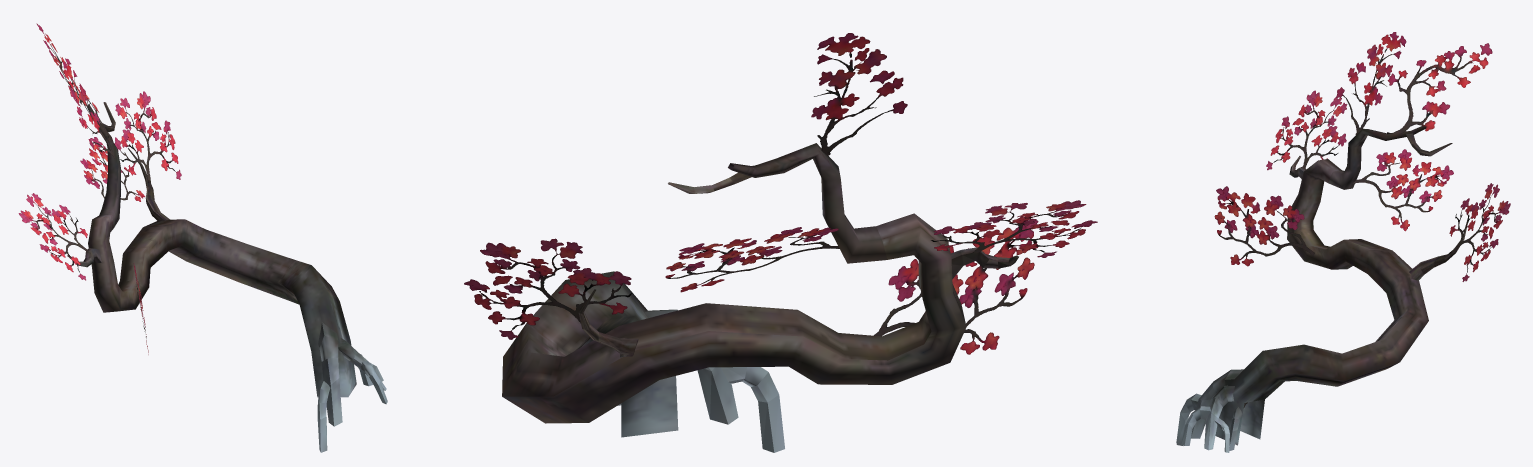
Rendered from cj_xinshou_shu01_55_31_0692out.fbx.
The picture shows the model from 3 angles, left to right: view 1: azimuth 30°, elevation 25°; view 2: azimuth 150°, elevation 25°; view 3: azimuth 270°, elevation 25°; orthographic projection. The views are drawn at different scales.
Visible parts, largest first — view 1: cj_xinshou_shu01; view 2: cj_xinshou_shu01; view 3: cj_xinshou_shu01.
Boxes of the visible parts, x1,y1,x2,y2 form: cj_xinshou_shu01: (18, 23, 387, 452); cj_xinshou_shu01: (464, 33, 1097, 452); cj_xinshou_shu01: (1176, 32, 1510, 452).
Bounding box in the file's own units: 4.07 × 4.09 × 3.62.
